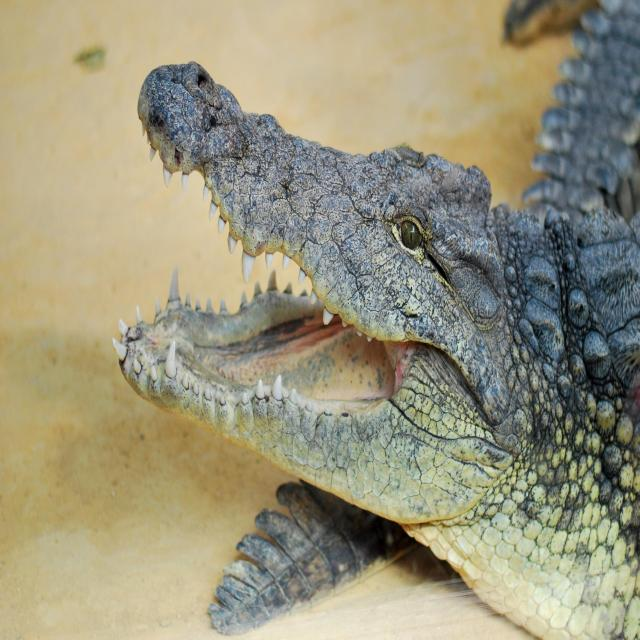crocodile: (64, 0, 640, 640)
